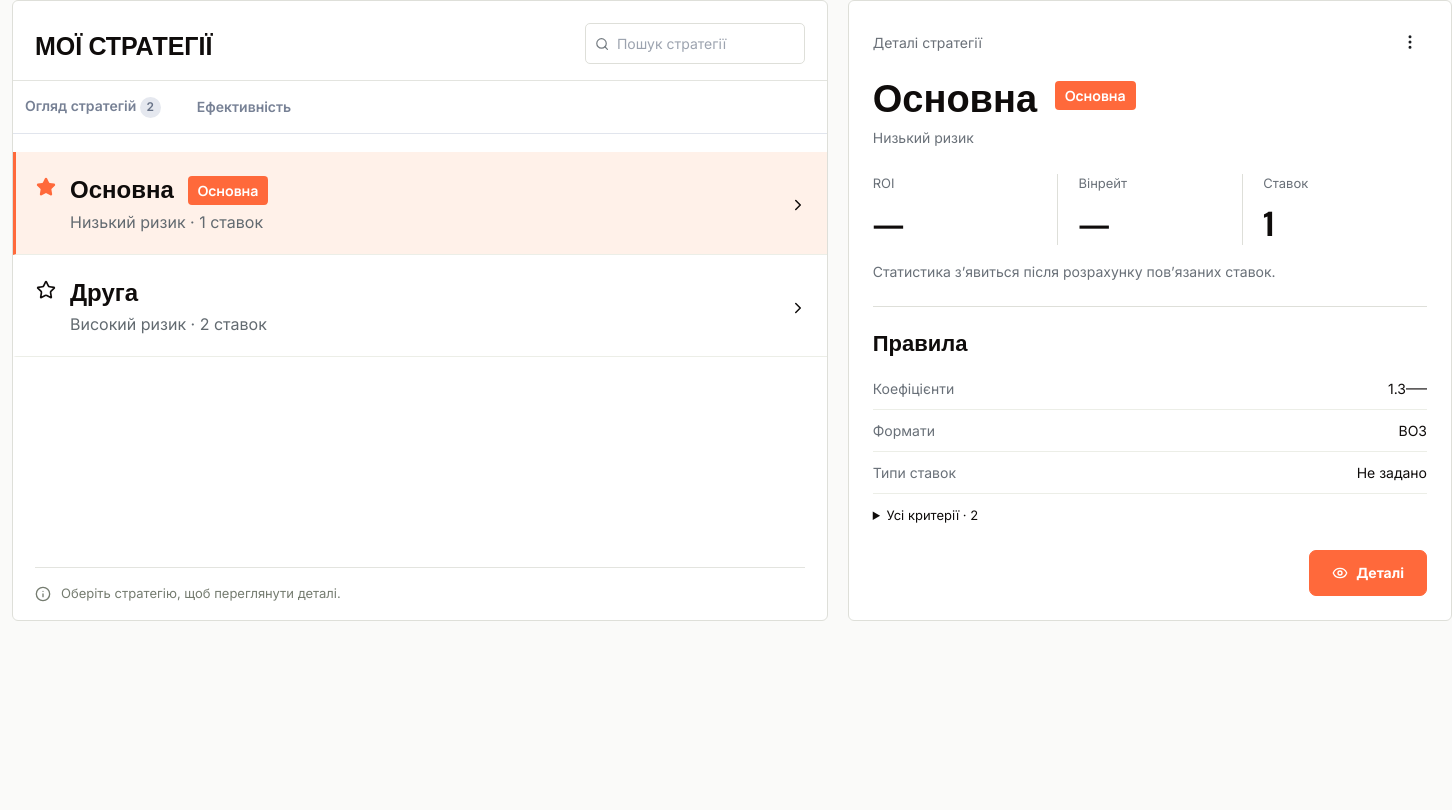
Test: switches details by selecting a strategy row
Click the button "Друга Високий ризик · 2 ставок".
click(104, 290)  # box [13, 255, 827, 357]
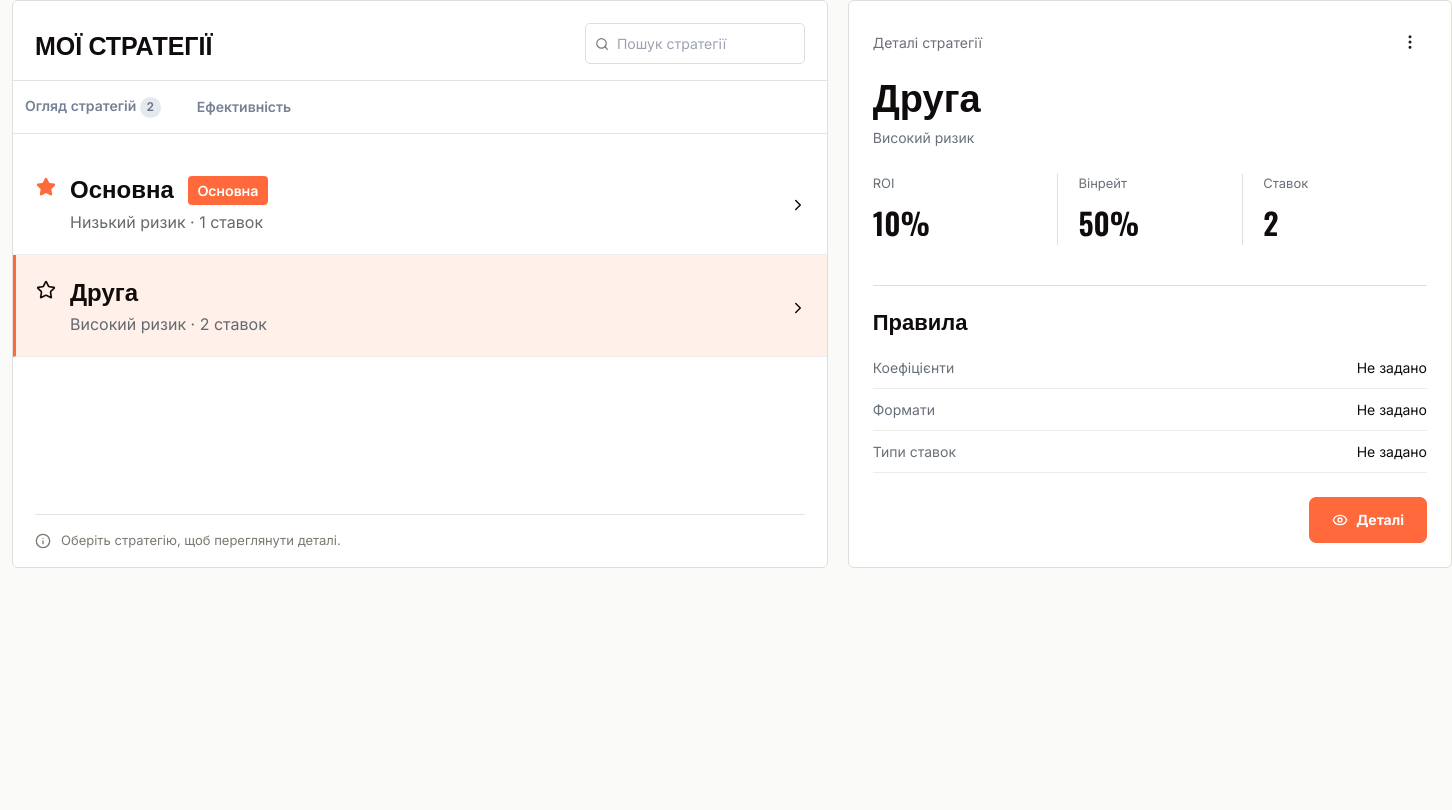
Now the text "50%" is shown, box [1078, 200, 1139, 245]
Now the heading "Друга" is shown, box [873, 67, 981, 123]
